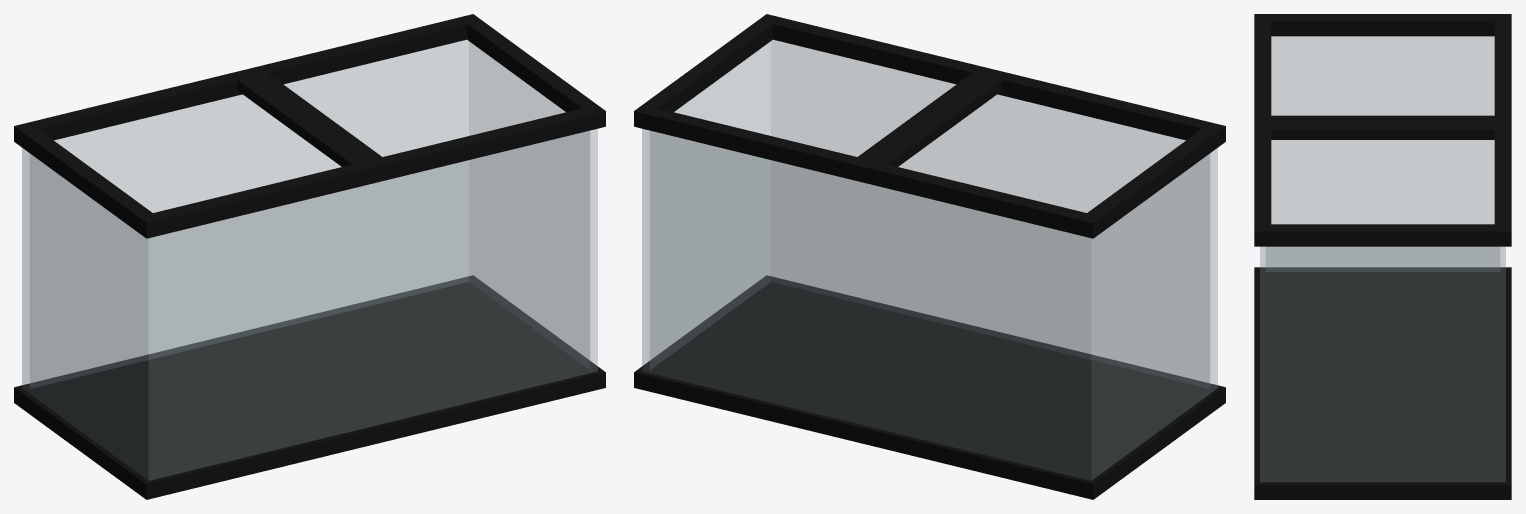
File: aquarium_medium.glb
3 renders of one model, left to right at view 1: azimuth 30°, elevation 25°; view 2: azimuth 150°, elevation 25°; view 3: azimuth 270°, elevation 25°, orthographic. The views are drawn at different scales.
Parts seen in each view (by area): view 1: aquarium_medium:compound; view 2: aquarium_medium:compound; view 3: aquarium_medium:compound.
Boxes of the visible parts, x1=… form: aquarium_medium:compound: x1=14, y1=14, x2=605, y2=499; aquarium_medium:compound: x1=634, y1=14, x2=1225, y2=499; aquarium_medium:compound: x1=1254, y1=14, x2=1511, y2=499.
Bounding box in the file's own units: 0.92 × 0.53 × 0.46.
